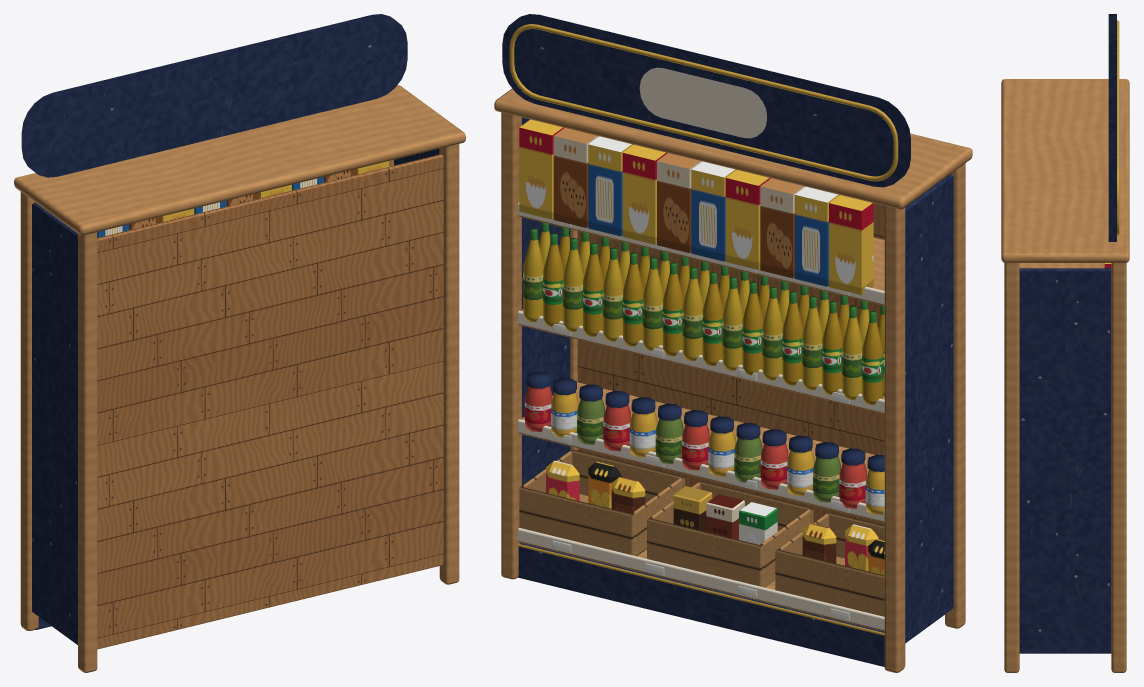
The model's file is shelf_T2.fbx.
3 views of the same model, side by side, from view 1: azimuth 30°, elevation 25°; view 2: azimuth 150°, elevation 25°; view 3: azimuth 270°, elevation 25° (orthographic). The views are drawn at different scales.
Parts seen in each view (by area): view 1: Body; view 2: Body, Anim Fill 0, Anim Fill 2, Anim Fill 1, Anim Fill 3; view 3: Body.
Part boxes in pixels (box(x1,y1,x2,y2)): Body: box(14, 14, 465, 672); Body: box(494, 14, 972, 672); Anim Fill 0: box(519, 119, 645, 513); Anim Fill 2: box(673, 170, 814, 544); Anim Fill 1: box(622, 144, 735, 470); Anim Fill 3: box(794, 186, 884, 575); Body: box(1001, 14, 1129, 672).
Size of the model in its own units: 1.5 by 1.97 by 0.46.
